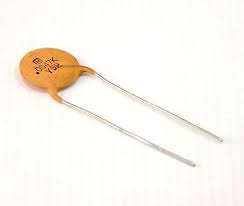ceramic capacitor: (11, 18, 109, 138)
